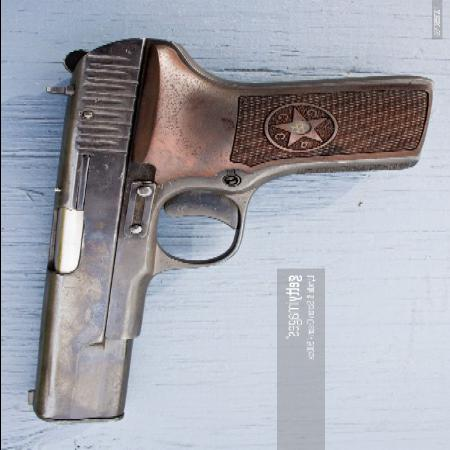Pistol: (21, 39, 434, 425)
